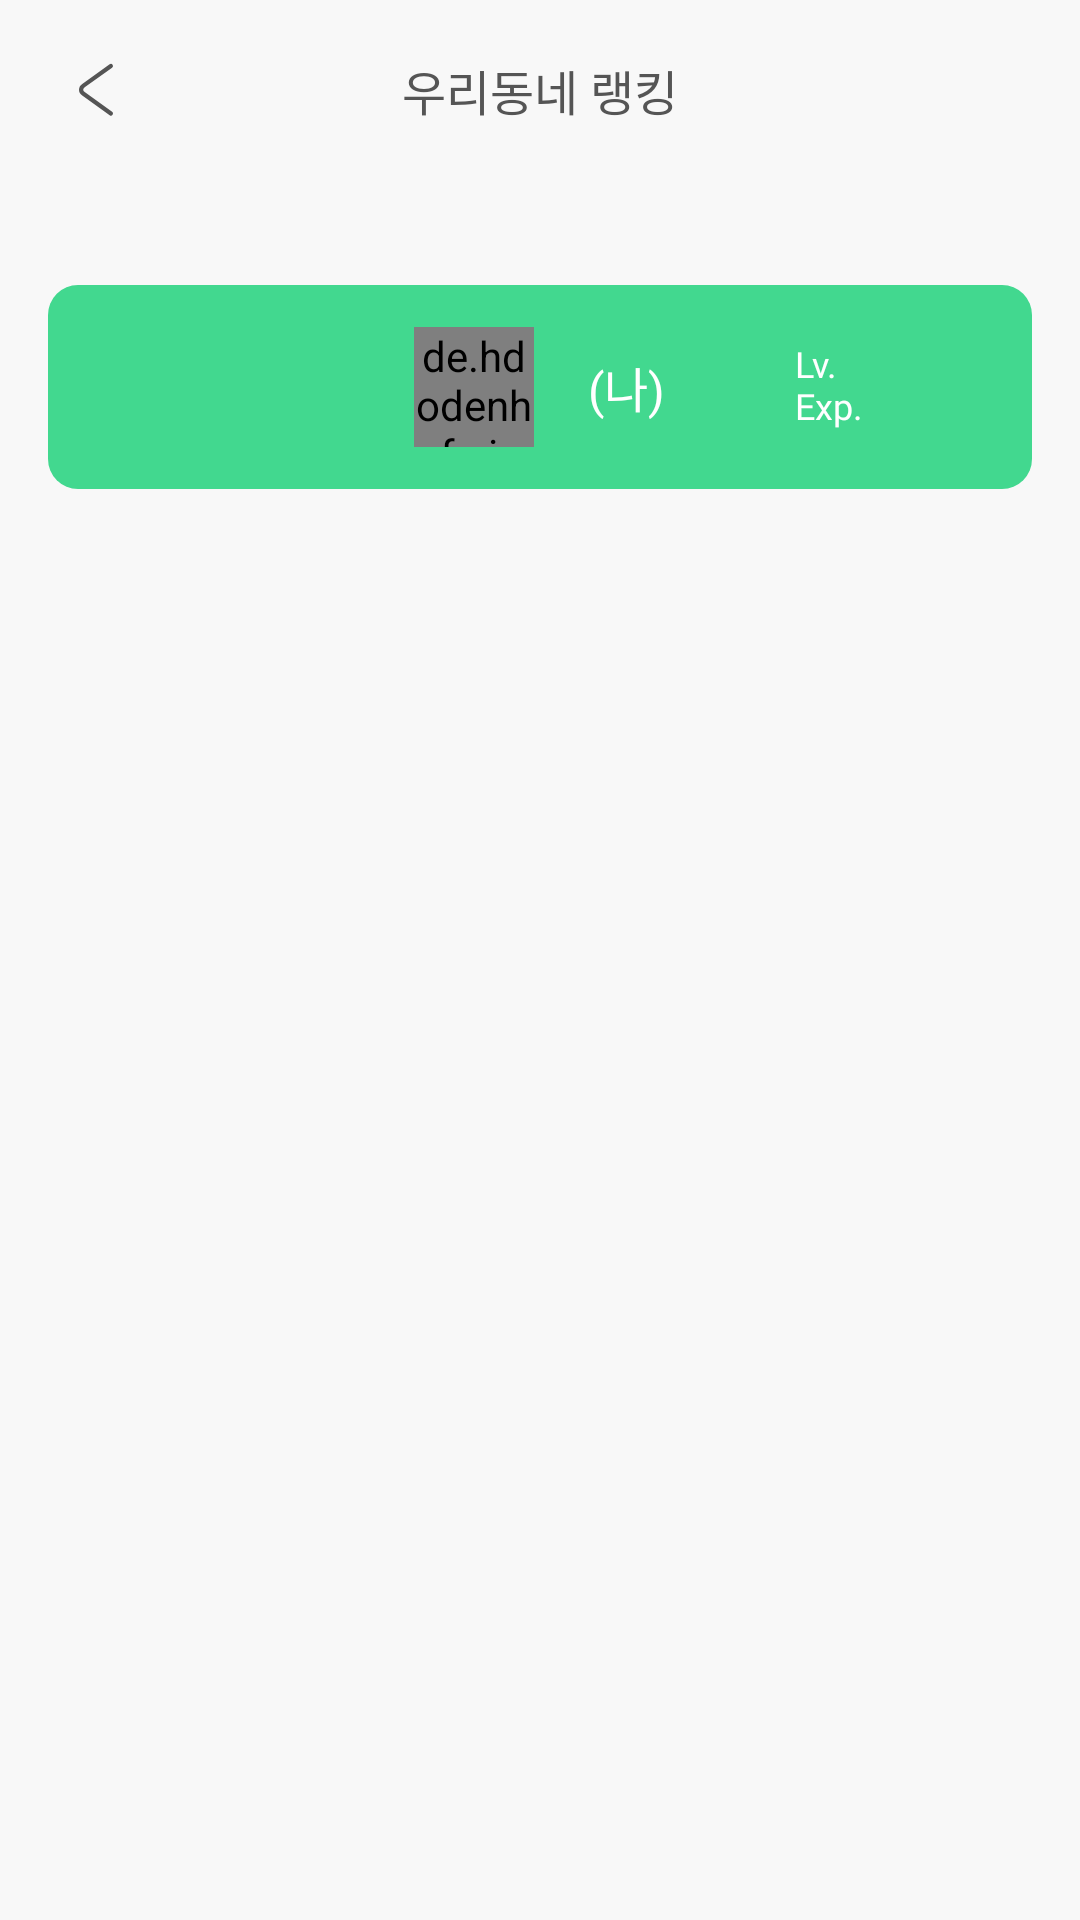

Point at icon controls on the screen. Image size 1080px x 1920px, points as (x=x, y=y).
arrow back: (x=96, y=90)
